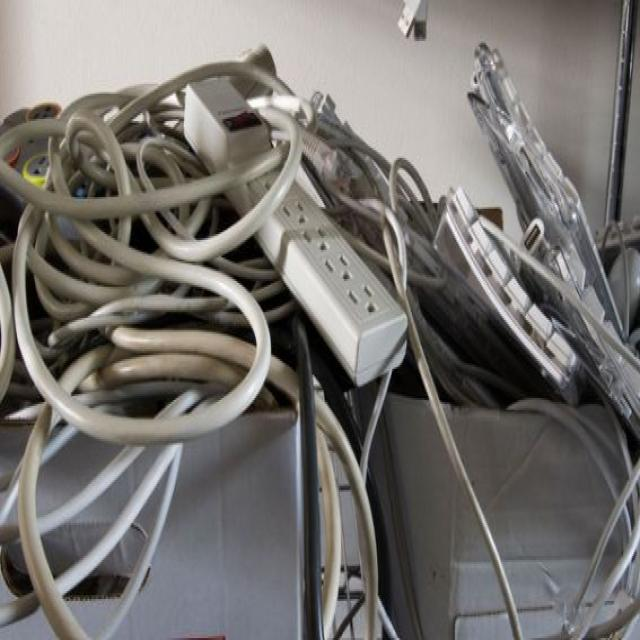electronic: (185, 61, 411, 446)
